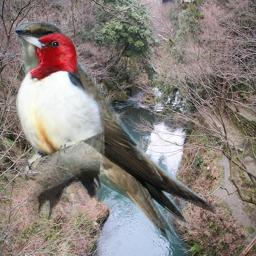Swallow: (14, 21, 218, 244)
Woodpecker: (11, 32, 108, 226)
